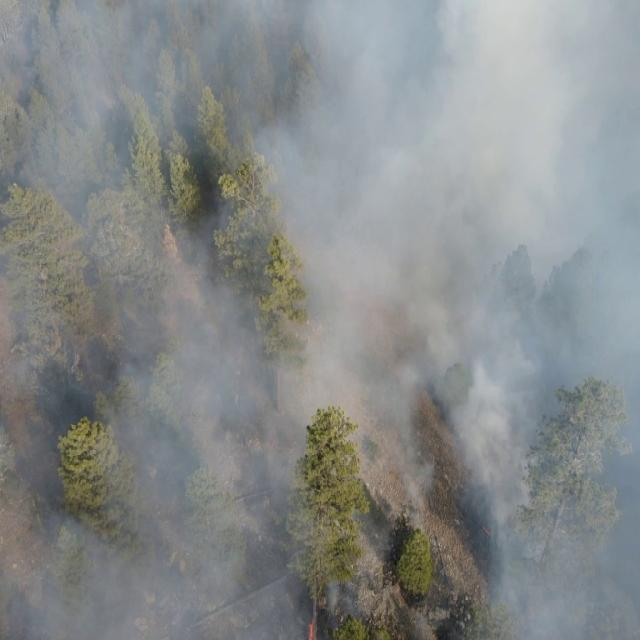fire: (306, 621, 318, 640)
smoke: (0, 0, 397, 635), (398, 0, 640, 526), (435, 526, 640, 640), (400, 604, 435, 640)
